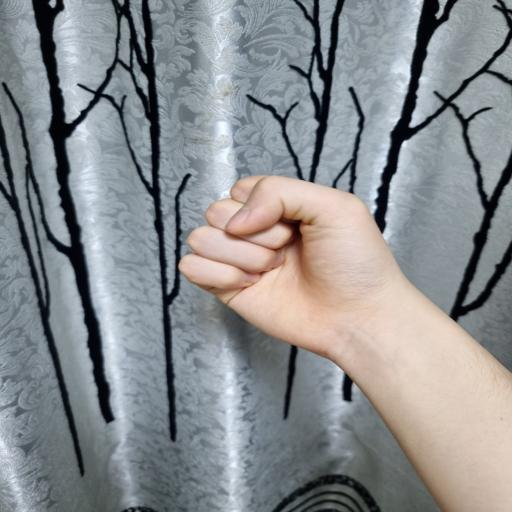Rock: (178, 174, 396, 364)
